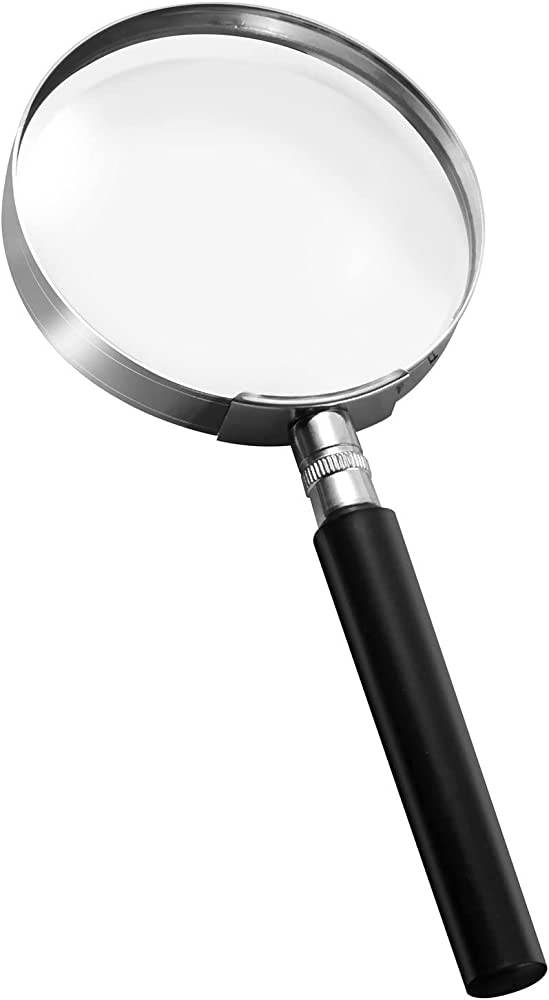magnifying-glass: (12, 3, 506, 537)
